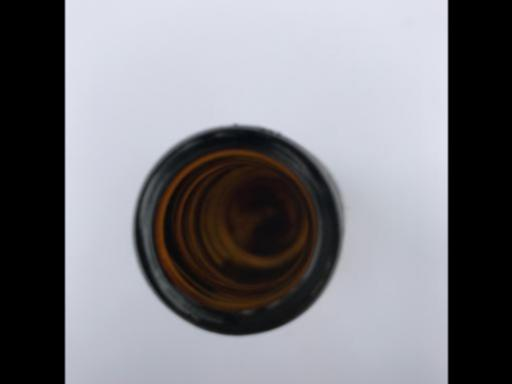glass: (130, 124, 343, 336)
sodocalcique: (130, 124, 343, 336)
